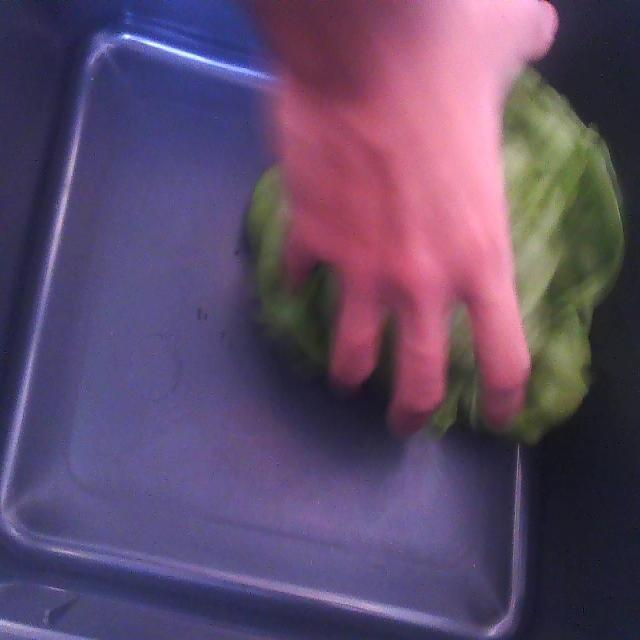Lettuce-plant: (504, 68, 624, 441), (246, 167, 335, 367), (430, 307, 479, 435)
